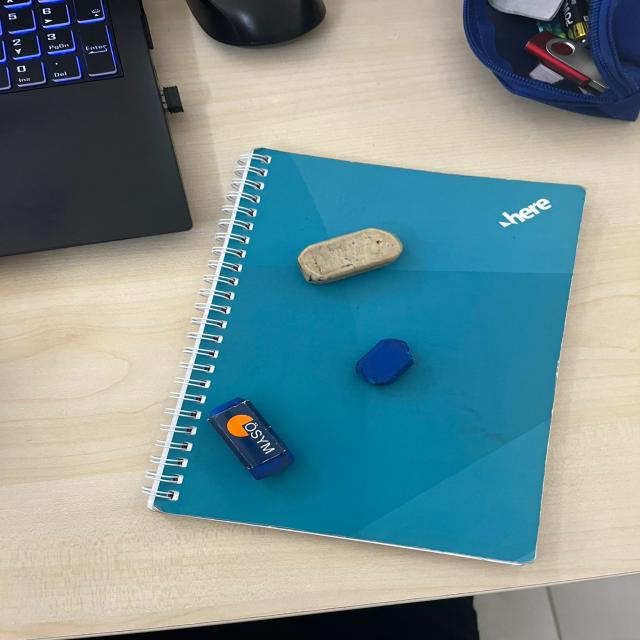eraser: (283, 221, 423, 287), (202, 391, 294, 485), (335, 332, 425, 396)
